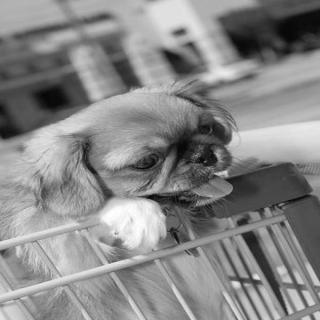dog: (28, 91, 242, 244)
nose: (182, 140, 217, 170)
